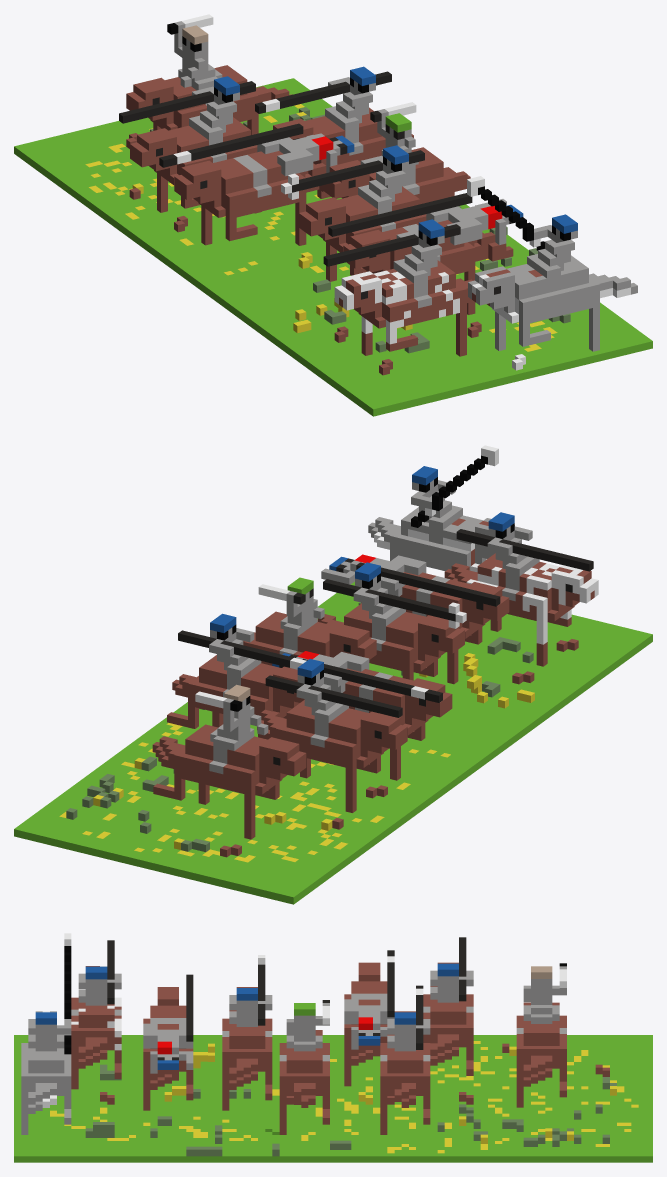
File: tartar_engage_cossacks-3.obj
The picture shows the model from 3 angles, top to bottom: view 1: azimuth 30°, elevation 25°; view 2: azimuth 150°, elevation 25°; view 3: azimuth 270°, elevation 25°; orthographic projection. The views are drawn at different scales.
Size of the model in its own units: 4 by 2.5 by 8.9.
1 material, 1 textured.
